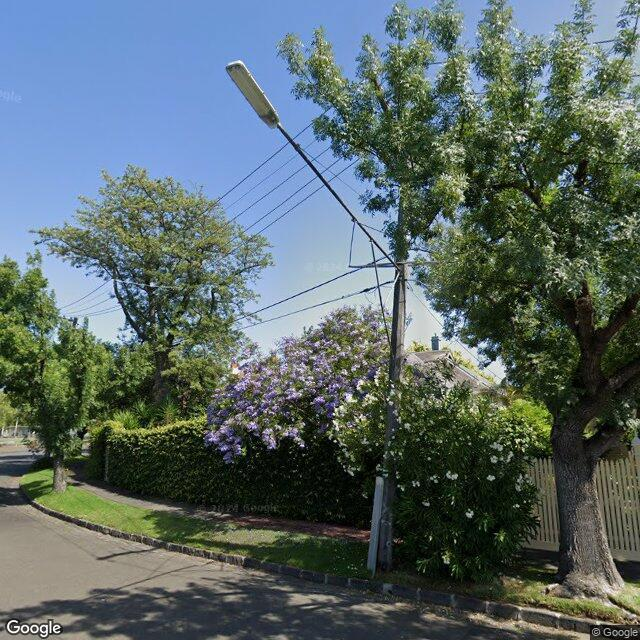crossarm: (372, 78, 389, 112)
streetlight: (225, 61, 403, 276)
timber-pole: (376, 258, 406, 570)
